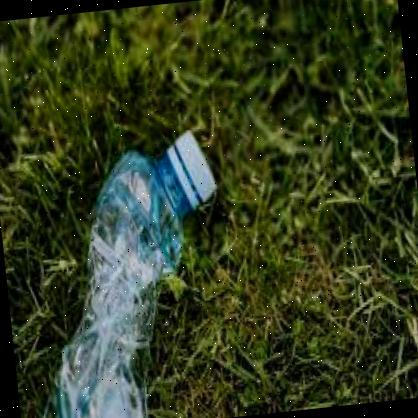bottle: (9, 118, 259, 418)
cap: (162, 122, 219, 208)
